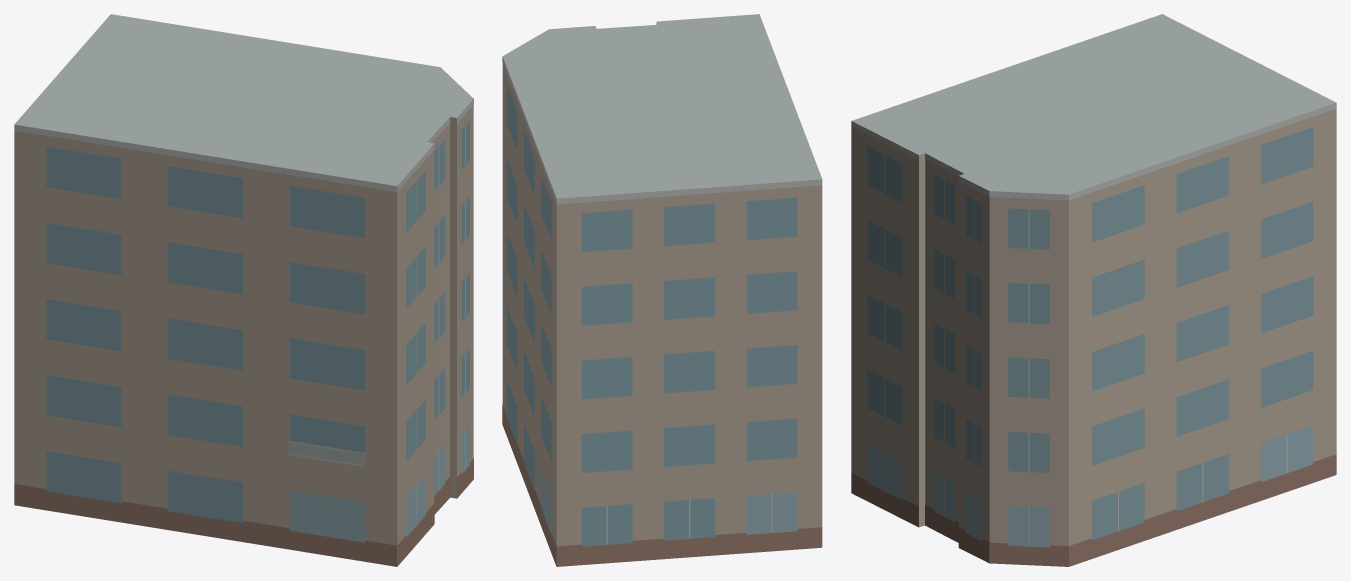
Rendered from survey-upis-32843993.glb.
3 renders of one model, left to right at view 1: azimuth 30°, elevation 25°; view 2: azimuth 150°, elevation 25°; view 3: azimuth 270°, elevation 25°, orthographic. The views are drawn at different scales.
Visible parts, largest first — view 1: survey-upis-32843993.tmp; view 2: survey-upis-32843993.tmp; view 3: survey-upis-32843993.tmp.
Part boxes in pixels (left/top/right/bottom): survey-upis-32843993.tmp: left=14, top=14, right=473, bottom=566; survey-upis-32843993.tmp: left=502, top=14, right=822, bottom=566; survey-upis-32843993.tmp: left=851, top=14, right=1336, bottom=566.
Bounding box in the file's own units: 16.07 × 15.43 × 18.23.
